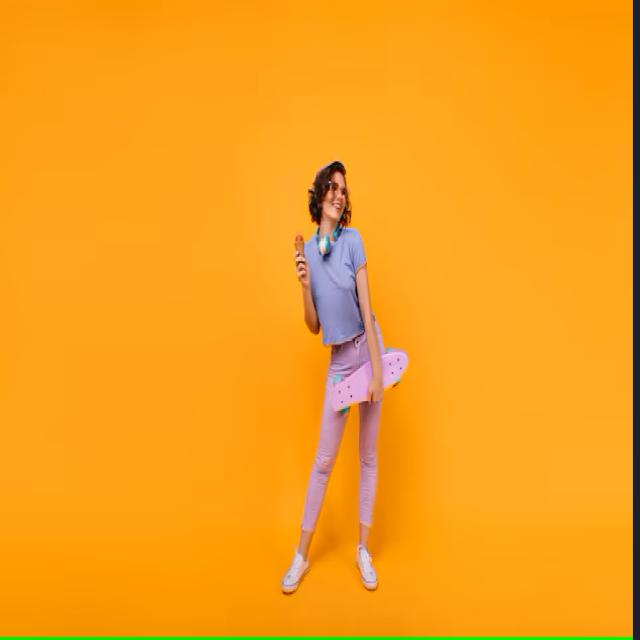Edited images: (270, 142, 417, 620)
